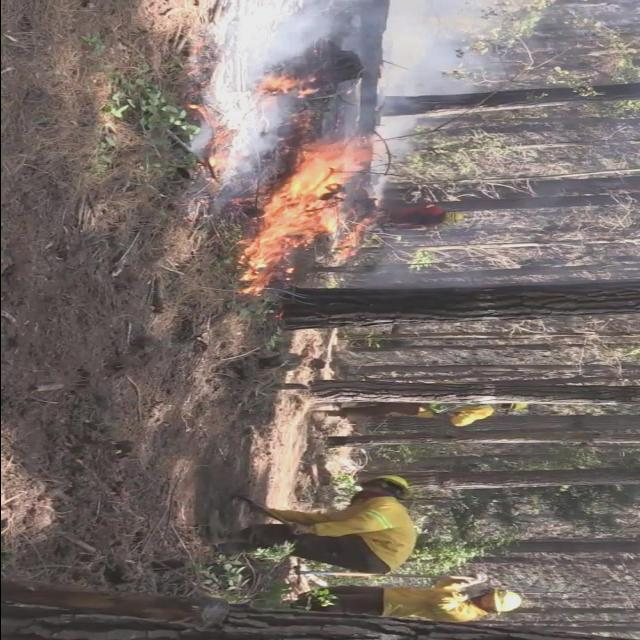Fire: (237, 135, 377, 299), (188, 101, 228, 175), (332, 214, 376, 261), (253, 70, 300, 94)
